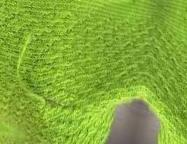snag: (14, 35, 51, 111)
